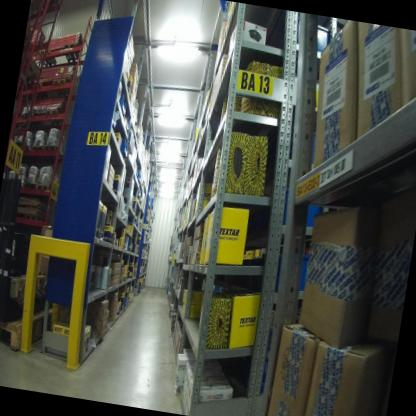pallet: (0, 285, 68, 366), (0, 258, 57, 318), (32, 43, 59, 76), (41, 105, 66, 135), (59, 39, 84, 69), (50, 73, 72, 100), (42, 141, 66, 165), (28, 75, 45, 105), (28, 142, 49, 166), (35, 178, 56, 198), (22, 210, 43, 224), (24, 179, 37, 192)
